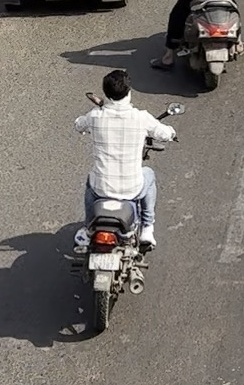BikeWithRider: (60, 68, 189, 331)
NoHelmet: (98, 70, 138, 110)
